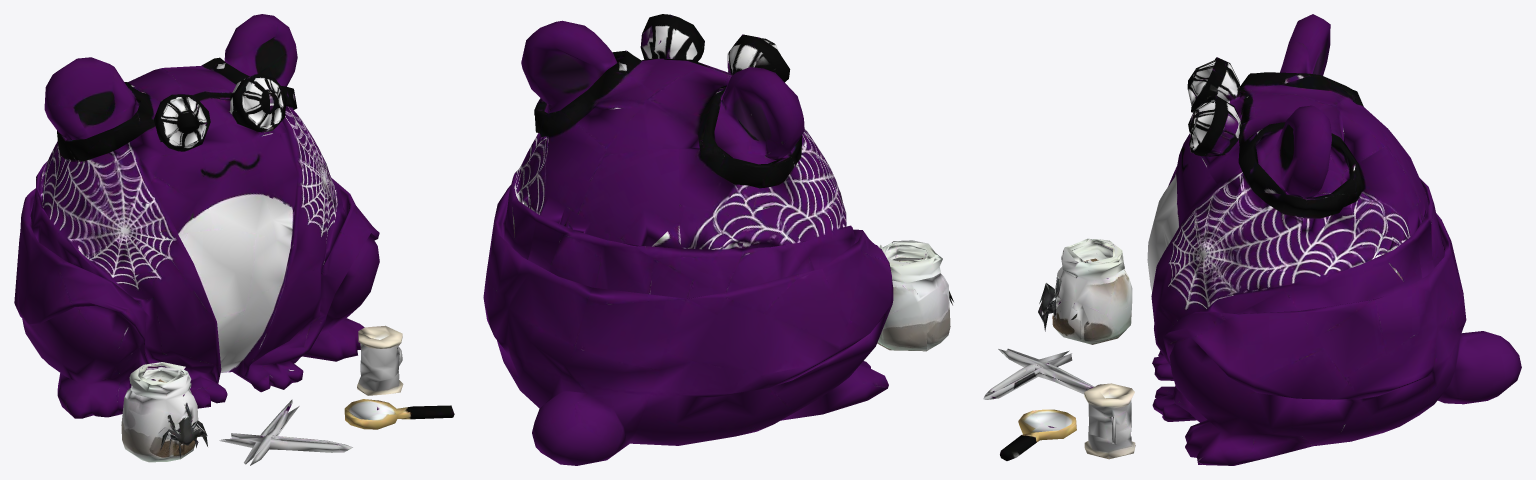
The model's file is arachnologue.glb.
3 views of the same model, side by side, from view 1: azimuth 30°, elevation 25°; view 2: azimuth 150°, elevation 25°; view 3: azimuth 270°, elevation 25° (orthographic). The views are drawn at different scales.
Parts seen in each view (by area): view 1: mesh_node; view 2: mesh_node; view 3: mesh_node.
Boxes of the visible parts, bbox=[...] form: mesh_node: bbox=[14, 14, 454, 465]; mesh_node: bbox=[483, 14, 953, 465]; mesh_node: bbox=[983, 14, 1521, 465].
Bounding box in the file's own units: 1.44 × 1.27 × 1.9.
1 material, 1 textured.
